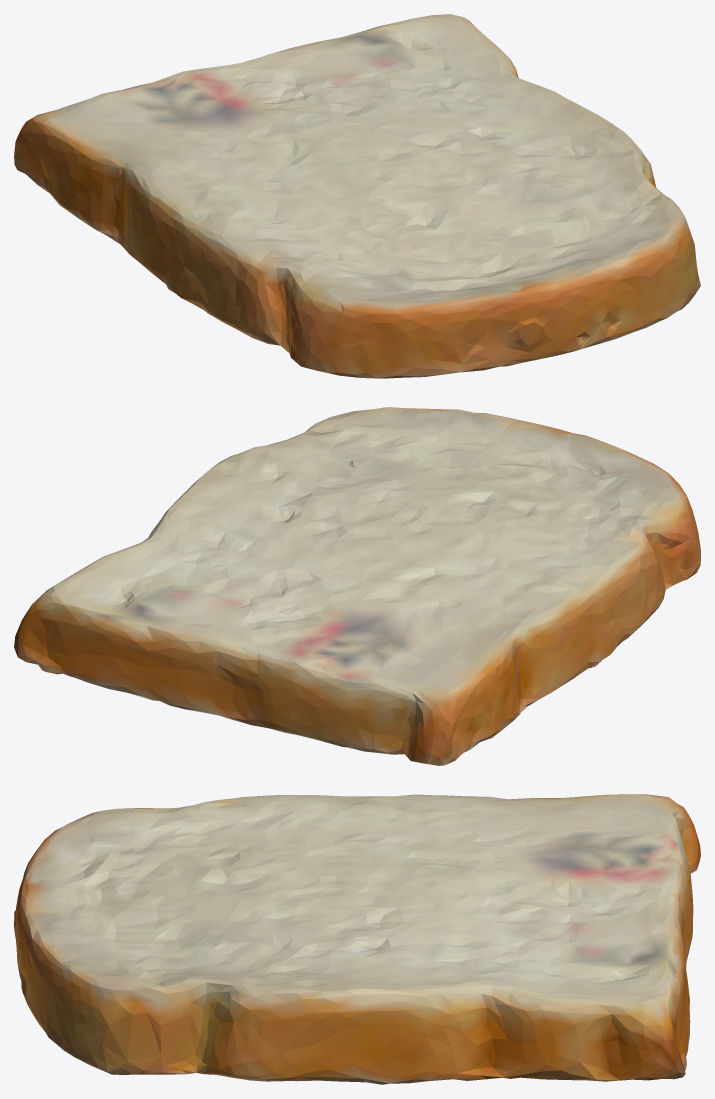
File: scan.obj
The picture shows the model from 3 angles, top to bottom: view 1: azimuth 30°, elevation 25°; view 2: azimuth 150°, elevation 25°; view 3: azimuth 270°, elevation 25°; orthographic projection. The views are drawn at different scales.
Parts seen in each view (by area): view 1: scan.ply; view 2: scan.ply; view 3: scan.ply.
Boxes of the visible parts, left/top/right/bottom form: scan.ply: left=14, top=14, right=700, bottom=378; scan.ply: left=14, top=407, right=700, bottom=765; scan.ply: left=14, top=794, right=700, bottom=1084.
Size of the model in its own units: 0.1047 by 0.0191 by 0.1313.
